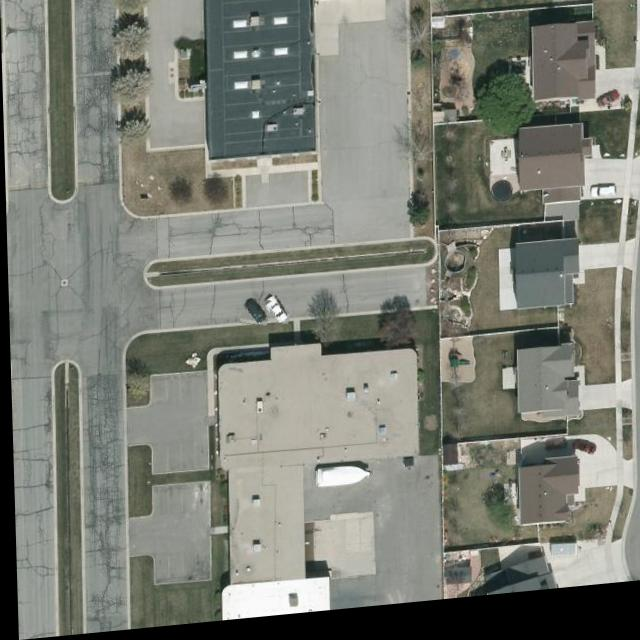vehicle: (260, 300, 291, 331), (238, 302, 269, 333), (594, 100, 621, 121), (569, 450, 593, 468), (589, 198, 617, 211), (541, 448, 564, 462)
